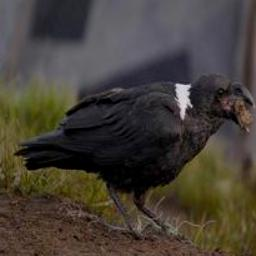Crow: (10, 67, 256, 246)
